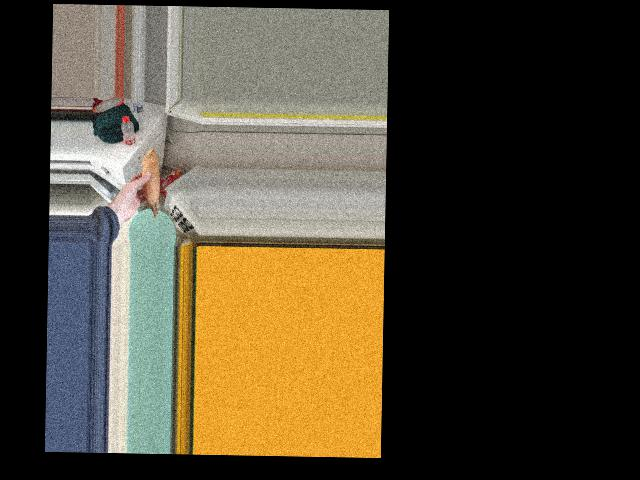sweet_potato: (138, 153, 161, 213)
